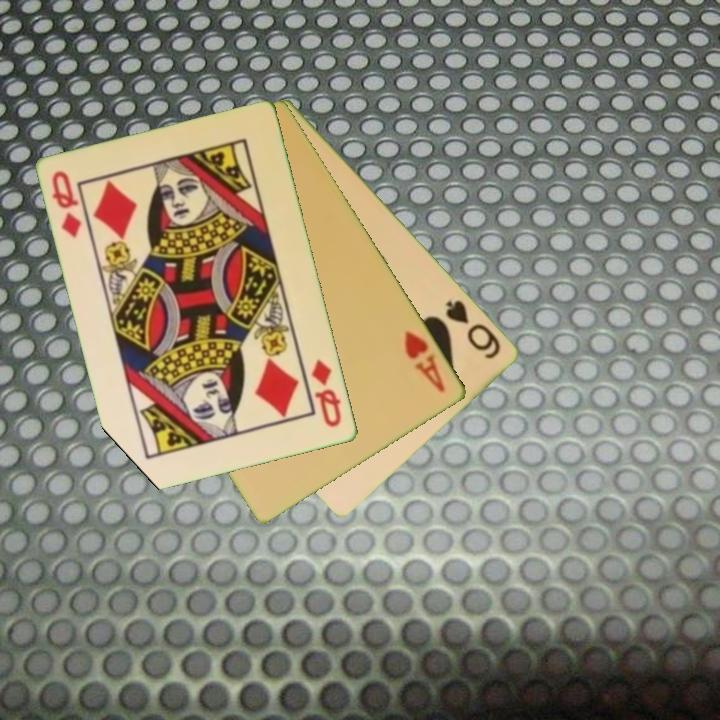6s: (442, 296, 505, 362)
Ah: (401, 326, 449, 396)
Qd: (308, 356, 345, 431), (49, 167, 85, 241)
